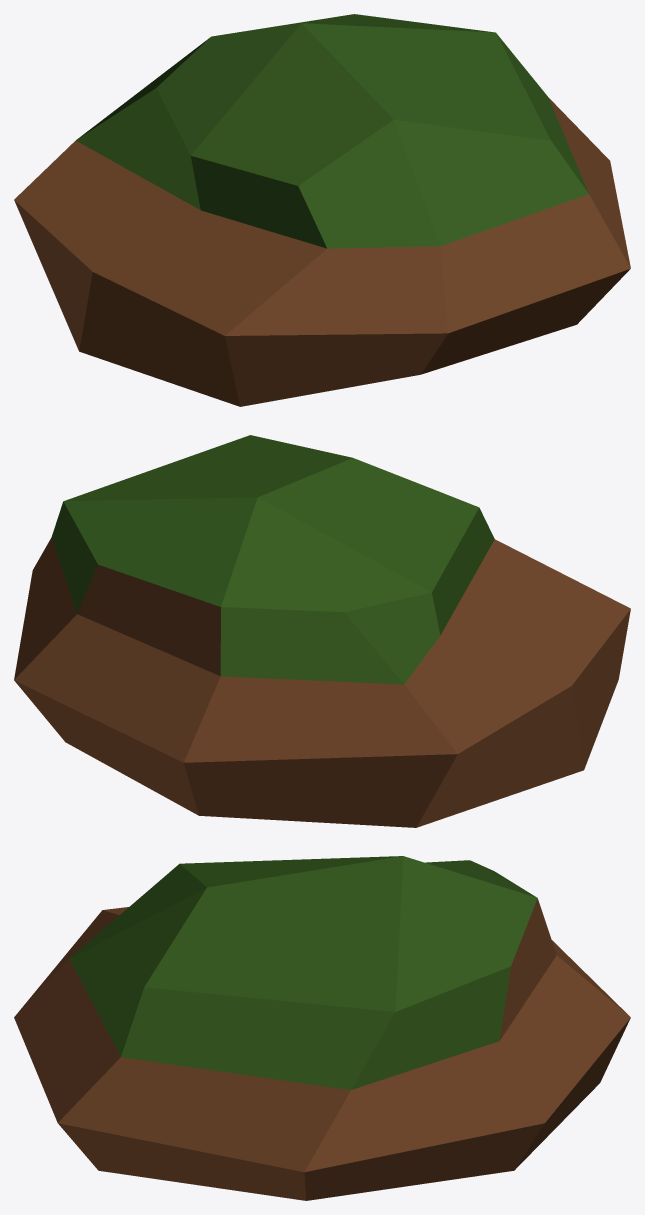
The model's file is MossyRocks006.fbx.
3 views of the same model, one above another, from view 1: azimuth 30°, elevation 25°; view 2: azimuth 150°, elevation 25°; view 3: azimuth 270°, elevation 25° (orthographic). The views are drawn at different scales.
Visible parts, largest first — view 1: Cube.014; view 2: Cube.014; view 3: Cube.014.
Part boxes in pixels (left/top/right/bottom): Cube.014: left=14, top=14, right=630, bottom=406; Cube.014: left=14, top=435, right=630, bottom=827; Cube.014: left=14, top=856, right=630, bottom=1200.
Size of the model in its own units: 519 by 215 by 489.
